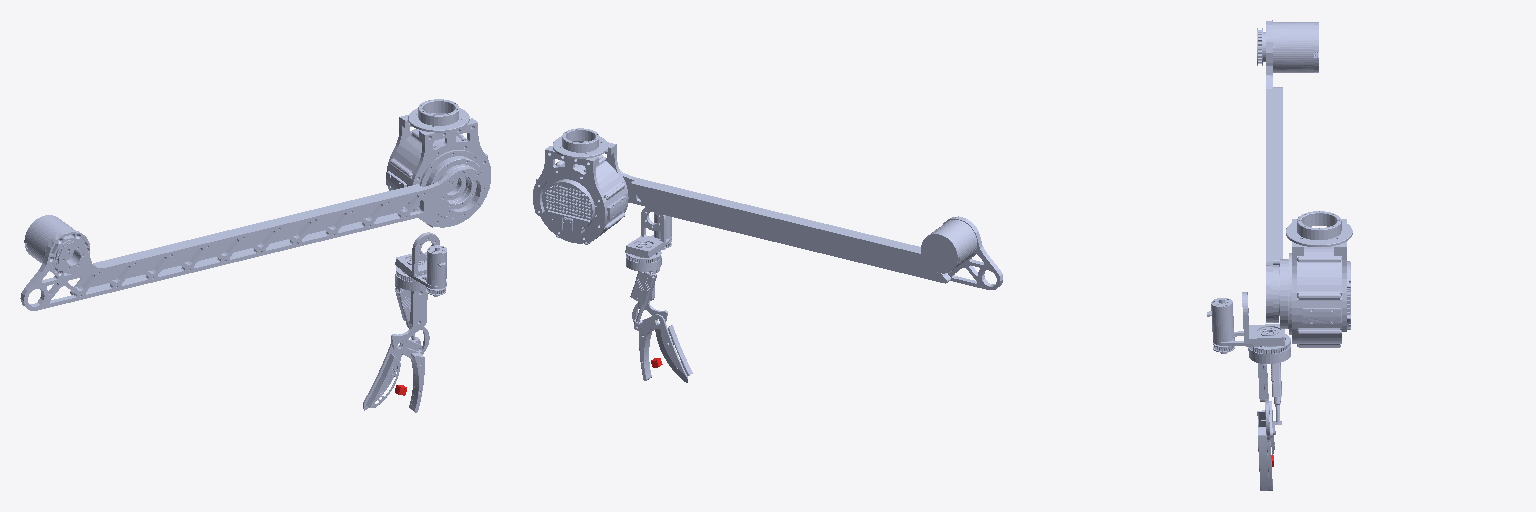
robot.urdf — arm:
<?xml version="1.0" encoding="utf-8"?>
<!-- This URDF was automatically created by SolidWorks to URDF Exporter! Originally created by [author] ([email redacted]) 
     Commit Version: 1.6.0-4-g7f85cfe  Build Version: 1.6.7995.38578
     For more information, please see http://wiki.ros.org/sw_urdf_exporter -->
<robot
  name="arm">
  <!-- New robot root fixed to the UAV -->
  <link name="uav_mount"/>
  <!-- Flip the arm: 180 deg about X -->
  <joint name="uav_arm_mount" type="fixed">
    <parent link="uav_mount"/>
    <child  link="base_link"/>
    <!-- Position the arm relative to the UAV (edit xyz as needed) -->
    <origin xyz="0 0 0" rpy="3.14159265359 0 0"/>
  </joint>
  <link
    name="base_link">
    <inertial>
      <origin
        xyz="-0.0338237789353392 -0.00624475001677769 0.0126995153789804"
        rpy="0 0 0" />
      <mass
        value="0.13398639623737" />
      <inertia
        ixx="9.06854830233746E-05"
        ixy="-7.75753531744474E-07"
        ixz="7.00474911995067E-12"
        iyy="9.47381245488763E-05"
        iyz="2.20637559023401E-12"
        izz="0.000184094001283563" />
    </inertial>
    <visual>
      <origin
        xyz="0 0 0"
        rpy="0 0 0" />
      <geometry>
        <mesh
          filename="package://arm/meshes/base_link.STL" />
      </geometry>
      <material
        name="">
        <color
          rgba="1 1 1 1" />
      </material>
    </visual>
    <collision>
      <origin
        xyz="0 0 0"
        rpy="0 0 0" />
      <geometry>
        <mesh
          filename="package://arm/meshes/base_link.STL" />
      </geometry>
    </collision>
  </link>
  <link
    name="link1">
    <inertial>
      <origin
        xyz="5.81797452513938E-06 0.00303124700152538 0.0695606902137614"
        rpy="0 0 0" />
      <mass
        value="0.642479171012838" />
      <inertia
        ixx="0.000613396531399545"
        ixy="-5.83457835365859E-09"
        ixz="2.6267514323439E-08"
        iyy="0.00101049364345192"
        iyz="8.48589266431191E-08"
        izz="0.000620863322610862" />
    </inertial>
    <visual>
      <origin
        xyz="0 0 0"
        rpy="0 0 0" />
      <geometry>
        <mesh
          filename="package://arm/meshes/link1.STL" />
      </geometry>
      <material
        name="">
        <color
          rgba="0.792156862745098 0.819607843137255 0.933333333333333 1" />
      </material>
    </visual>
    <collision>
      <origin
        xyz="0 0 0"
        rpy="0 0 0" />
      <geometry>
        <mesh
          filename="package://arm/meshes/link1.STL" />
      </geometry>
    </collision>
  </link>
  <joint
    name="joint1"
    type="revolute">
    <origin
      xyz="0 0 0.03"
      rpy="0 0 0" />
    <parent
      link="base_link" />
    <child
      link="link1" />
    <axis
      xyz="0 0 1" />
    <limit
      lower="-1.57"
      upper="1.57"
      effort="0"
      velocity="2.0" />
  </joint>
  <link
    name="link2">
    <inertial>
      <origin
        xyz="-0.440299322115281 0.0268623872151033 -0.0124365287901207"
        rpy="0 0 0" />
      <mass
        value="0.43372726829568" />
      <inertia
        ixx="0.000136164725077275"
        ixy="0.000109531550234344"
        ixz="-1.66869989304674E-07"
        iyy="0.00612247030947251"
        iyz="6.10204691909552E-08"
        izz="0.00618771154307435" />
    </inertial>
    <visual>
      <origin
        xyz="0 0 0"
        rpy="0 0 0" />
      <geometry>
        <mesh
          filename="package://arm/meshes/link2.STL" />
      </geometry>
      <material
        name="">
        <color
          rgba="0.792156862745098 0.819607843137255 0.933333333333333 1" />
      </material>
    </visual>
    <collision>
      <origin
        xyz="0 0 0"
        rpy="0 0 0" />
      <geometry>
        <mesh
          filename="package://arm/meshes/link2.STL" />
      </geometry>
    </collision>
  </link>
  <joint
    name="joint2"
    type="revolute">
    <origin
      xyz="0 0.052 0.075"
      rpy="-1.5708 0 0" />
    <parent
      link="link1" />
    <child
      link="link2" />
    <axis
      xyz="0 0 1" />
    <limit
      lower="0.00"
      upper="3.14"
      effort="0"
      velocity="2.0" />
  </joint>
  <link
    name="link3">
    <inertial>
      <origin
        xyz="0.164566941907714 -0.0342925158029994 -0.00698494396490629"
        rpy="0 0 0" />
      <mass
        value="0.0797084159869781" />
      <inertia
        ixx="1.8227609196574E-05"
        ixy="3.75030523484562E-06"
        ixz="9.78999737441485E-14"
        iyy="0.00038716659325677"
        iyz="-2.57987386348614E-09"
        izz="0.000398803463986271" />
    </inertial>
    <visual>
      <origin
        xyz="0 0 0"
        rpy="0 0 0" />
      <geometry>
        <mesh
          filename="package://arm/meshes/link3.STL" />
      </geometry>
      <material
        name="">
        <color
          rgba="0.792156862745098 0.819607843137255 0.933333333333333 1" />
      </material>
    </visual>
    <collision>
      <origin
        xyz="0 0 0"
        rpy="0 0 0" />
      <geometry>
        <mesh
          filename="package://arm/meshes/link3.STL" />
      </geometry>
    </collision>
  </link>
  <joint
    name="joint3"
    type="revolute">
    <origin
      xyz="-0.6 0 0.013"
      rpy="0 0 0" />
    <parent
      link="link2" />
    <child
      link="link3" />
    <axis
      xyz="0 0 1" />
    <limit
      lower="-3.14"
      upper="0.00"
      effort="0"
      velocity="2.0" />
  </joint>
  <link
    name="link4">
    <inertial>
      <origin
        xyz="-0.00164970508411624 8.37400419816947E-05 0.028245824536188"
        rpy="0 0 0" />
      <mass
        value="0.063702924828358" />
      <inertia
        ixx="1.73988899626844E-05"
        ixy="-7.97579679023726E-09"
        ixz="-2.24615277406946E-09"
        iyy="1.26783554961613E-05"
        iyz="3.35959568519003E-10"
        izz="1.2827094135545E-05" />
    </inertial>
    <visual>
      <origin
        xyz="0 0 0"
        rpy="0 0 0" />
      <geometry>
        <mesh
          filename="package://arm/meshes/link4.STL" />
      </geometry>
      <material
        name="">
        <color
          rgba="0.792156862745098 0.819607843137255 0.933333333333333 1" />
      </material>
    </visual>
    <collision>
      <origin
        xyz="0 0 0"
        rpy="0 0 0" />
      <geometry>
        <mesh
          filename="package://arm/meshes/link4.STL" />
      </geometry>
    </collision>
  </link>
  <joint
    name="joint4"
    type="revolute">
    <origin
      xyz="0.5049 -0.046123 -0.0075"
      rpy="1.5708 1.5277 1.5686" />
    <parent
      link="link3" />
    <child
      link="link4" />
    <axis
      xyz="0 0 1" />
    <limit
      lower="-3.14"
      upper="3.14"
      effort="0"
      velocity="2.0" />
  </joint>
  <link
    name="link5">
    <inertial>
      <origin
        xyz="-6.02665369433819E-05 -0.0268290398429369 0.00548766583816004"
        rpy="0 0 0" />
      <mass
        value="0.0547357988784703" />
      <inertia
        ixx="9.62199721597537E-06"
        ixy="3.52268972907635E-09"
        ixz="3.12703304758774E-10"
        iyy="1.13491982864442E-05"
        iyz="1.46956217230616E-07"
        izz="7.93173269056218E-06" />
    </inertial>
    <visual>
      <origin
        xyz="0 0 0"
        rpy="0 0 0" />
      <geometry>
        <mesh
          filename="package://arm/meshes/link5.STL" />
      </geometry>
      <material
        name="">
        <color
          rgba="0.792156862745098 0.819607843137255 0.933333333333333 1" />
      </material>
    </visual>
    <collision>
      <origin
        xyz="0 0 0"
        rpy="0 0 0" />
      <geometry>
        <mesh
          filename="package://arm/meshes/link5.STL" />
      </geometry>
    </collision>
  </link>
  <joint
    name="joint5"
    type="revolute">
    <origin
      xyz="-0.021 0 0.03"
      rpy="-1.5708 -1.5686 1.5277" />
    <parent
      link="link4" />
    <child
      link="link5" />
    <axis
      xyz="0 0 1" />
    <limit
      lower="-0.1"
      upper="3.14"
      effort="0"
      velocity="2.0" />
  </joint>
  <link
    name="link6">
    <inertial>
      <origin
        xyz="-0.00181382142481674 0.000269951976972355 0.0461453062897946"
        rpy="0 0 0" />
      <mass
        value="0.0528456425160688" />
      <inertia
        ixx="2.76206968543613E-05"
        ixy="-1.2840529838209E-08"
        ixz="-5.5249410710242E-07"
        iyy="2.92091861477866E-05"
        iyz="-7.60914789356115E-07"
        izz="8.15456592518794E-06" />
    </inertial>
    <visual>
      <origin
        xyz="0 0 0"
        rpy="0 0 0" />
      <geometry>
        <mesh
          filename="package://arm/meshes/link6.STL" />
      </geometry>
      <material
        name="">
        <color
          rgba="0.792156862745098 0.819607843137255 0.933333333333333 1" />
      </material>
    </visual>
    <collision>
      <origin
        xyz="0 0 0"
        rpy="0 0 0" />
      <geometry>
        <mesh
          filename="package://arm/meshes/link6.STL" />
      </geometry>
    </collision>
  </link>
  <joint
    name="joint6"
    type="revolute">
    <origin
      xyz="-0.00010793 -0.048549 -0.023114"
      rpy="1.5708 0 0" />
    <parent
      link="link5" />
    <child
      link="link6" />
    <axis
      xyz="0 0 1" />
    <limit
      lower="-3.14"
      upper="3.14"
      effort="0"
      velocity="2.0" />
  </joint>
  <link
    name="link7">
    <inertial>
      <origin
        xyz="-0.012374 -0.029856 -0.0041787"
        rpy="0 0 0" />
      <mass
        value="0.0072621" />
      <inertia
        ixx="3.3178E-06"
        ixy="-2.1649E-06"
        ixz="-8.8345E-08"
        iyy="2.3066E-06"
        iyz="-1.2845E-07"
        izz="5.5555E-06" />
    </inertial>
    <visual>
      <origin
        xyz="0 0 0"
        rpy="0 0 0" />
      <geometry>
        <mesh
          filename="package://arm/meshes/link7.STL" />
      </geometry>
      <material
        name="">
        <color
          rgba="0.79216 0.81961 0.93333 1" />
      </material>
    </visual>
    <collision>
      <origin
        xyz="0 0 0"
        rpy="0 0 0" />
      <geometry>
        <mesh
          filename="package://arm/meshes/link7.STL" />
      </geometry>
    </collision>
  </link>
  <joint
    name="joint7"
    type="revolute">
    <origin
      xyz="-0.023246 0.0041998 0.088212"
      rpy="-1.5708 0 0" />
    <parent
      link="link6" />
    <child
      link="link7" />
    <axis
      xyz="0 0 -1" />
    <limit
      lower="-0.69"
      upper="0"
      effort="0"
      velocity="2.0" />
  </joint>
  <!-- ===== Tool Center Point (TCP) on link6 ===== -->
  <link name="tool0">
    <!-- inertial/collision are optional; omit if you like -->
    <visual>
      <!-- tiny axis marker so you can see it in RViz -->
      <origin xyz="0 0 0" rpy="0 0 0"/>
      <geometry>
        <box size="0.01 0.01 0.01"/>
      </geometry>
      <material name="tool0_color">
        <color rgba="1 0.2 0.2 1"/>
      </material>
    </visual>
  </link>

  <joint name="tool0_fixed" type="fixed">
    <parent link="link6"/>
    <child  link="tool0"/>
    <!-- EDIT THESE to your TCP offset in link6 frame -->
    <origin xyz="-0.02 0 0.15" rpy="0 -0.30 0"/>
  </joint>
</robot>

--- Render facts (derived) ---
3 views of the same robot in one strip: view 1: azimuth 30°, elevation 25°; view 2: azimuth 150°, elevation 25°; view 3: azimuth 270°, elevation 25° (orthographic).
Robot: arm — 10 links, 9 joints (7 revolute, 2 fixed); root link uav_mount; default pose: all joints at 0.
Links seen in each view (by area): view 1: link2, link1, link6, link5, link7; view 2: link2, link1, link6, link5, link7; view 3: link1, link2, link5, link6.
Link boxes in pixels (bbox=[...]): link2: bbox=[20, 166, 486, 310]; link1: bbox=[386, 99, 490, 227]; link6: bbox=[391, 274, 429, 412]; link5: bbox=[395, 232, 446, 296]; link7: bbox=[363, 339, 421, 410]; link2: bbox=[620, 170, 1002, 289]; link1: bbox=[533, 128, 628, 244]; link6: bbox=[626, 259, 667, 380]; link5: bbox=[625, 207, 671, 264]; link7: bbox=[634, 314, 692, 382]; link1: bbox=[1273, 211, 1352, 347]; link2: bbox=[1257, 20, 1318, 322]; link5: bbox=[1207, 292, 1290, 355]; link6: bbox=[1248, 348, 1290, 490].
Bounding box of the posed robot: 0.6775 × 0.1628 × 0.3668 m (x, y, z).
Meshes: 8 distinct files referenced, 5 mesh visuals loaded (5 binary STL); not drawn: 3 (reference not matched to a file when rendering).
